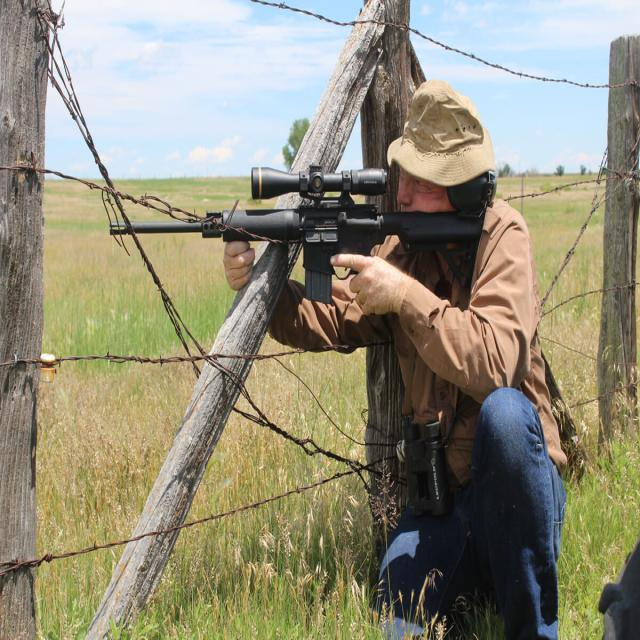Rifle: (109, 166, 482, 307)
